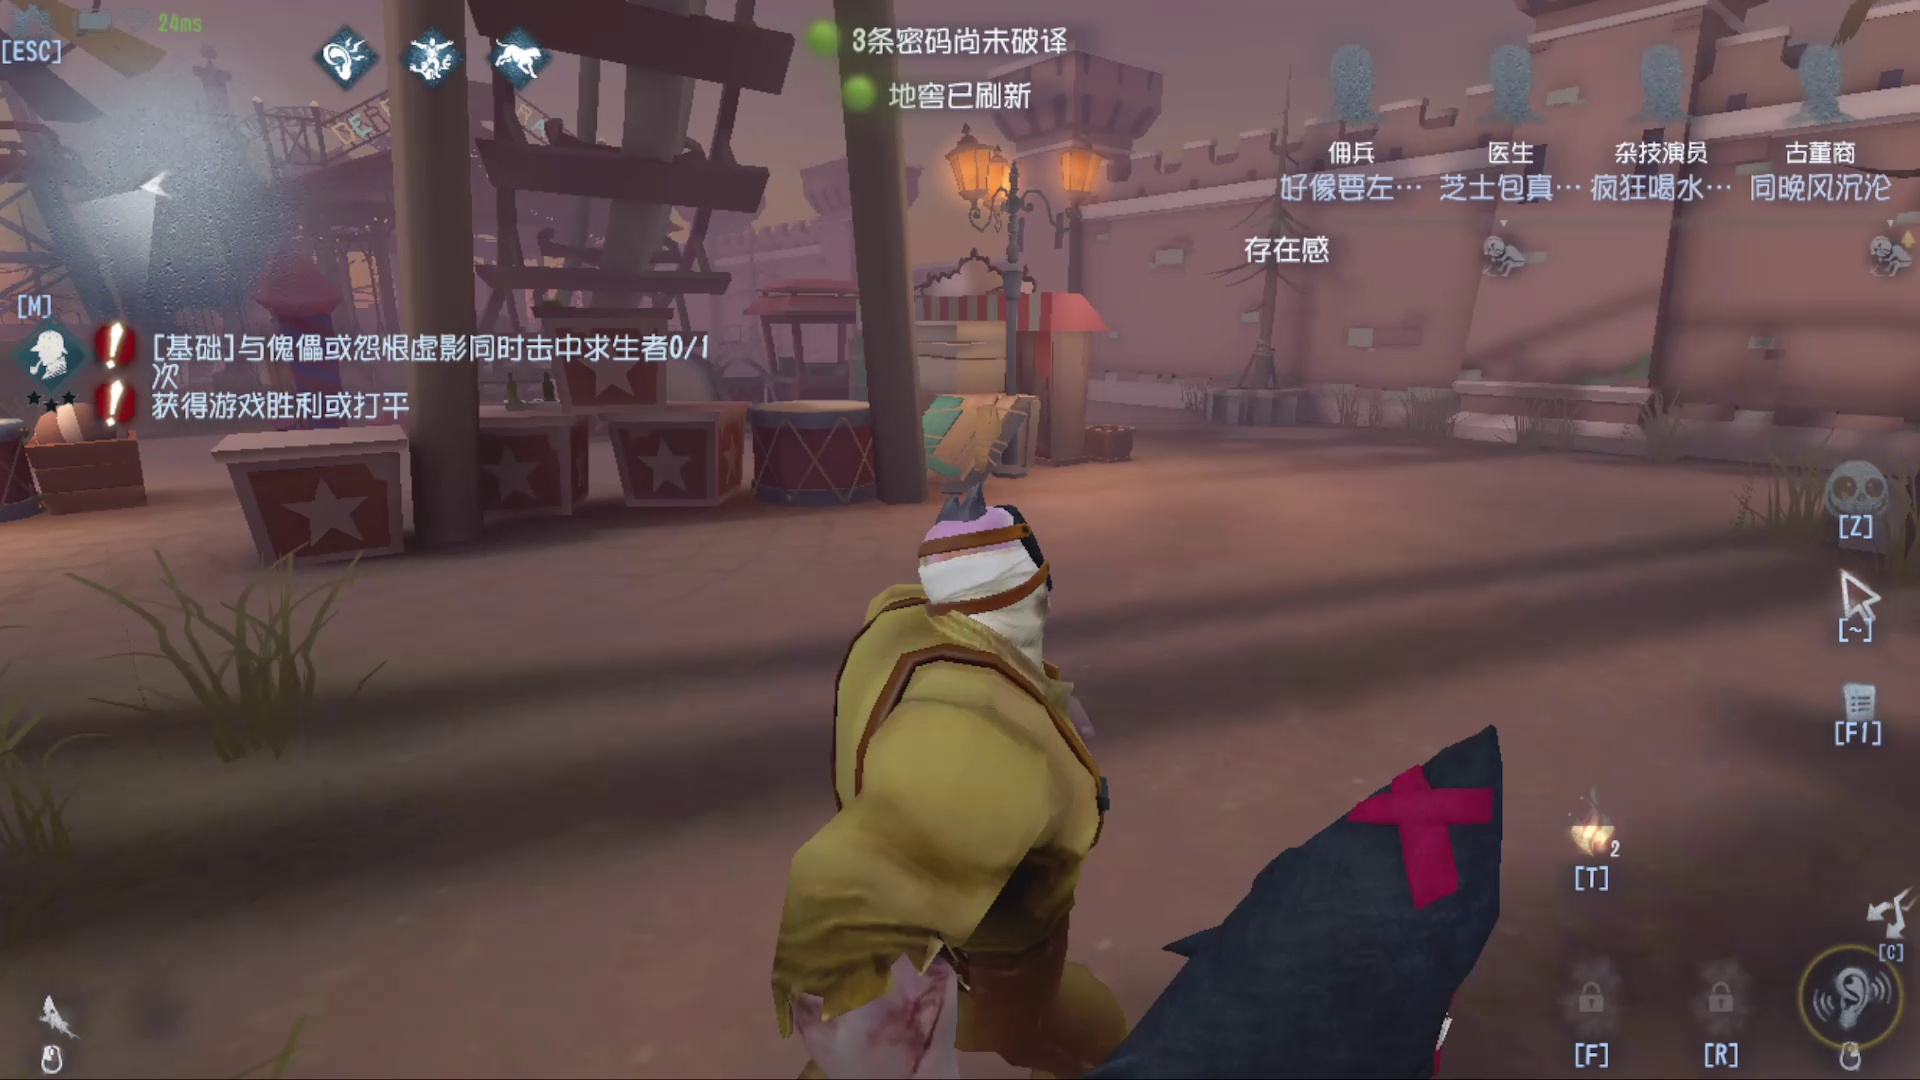木板: (895, 386, 1039, 492)
狂欢之椅: (227, 249, 380, 469)
